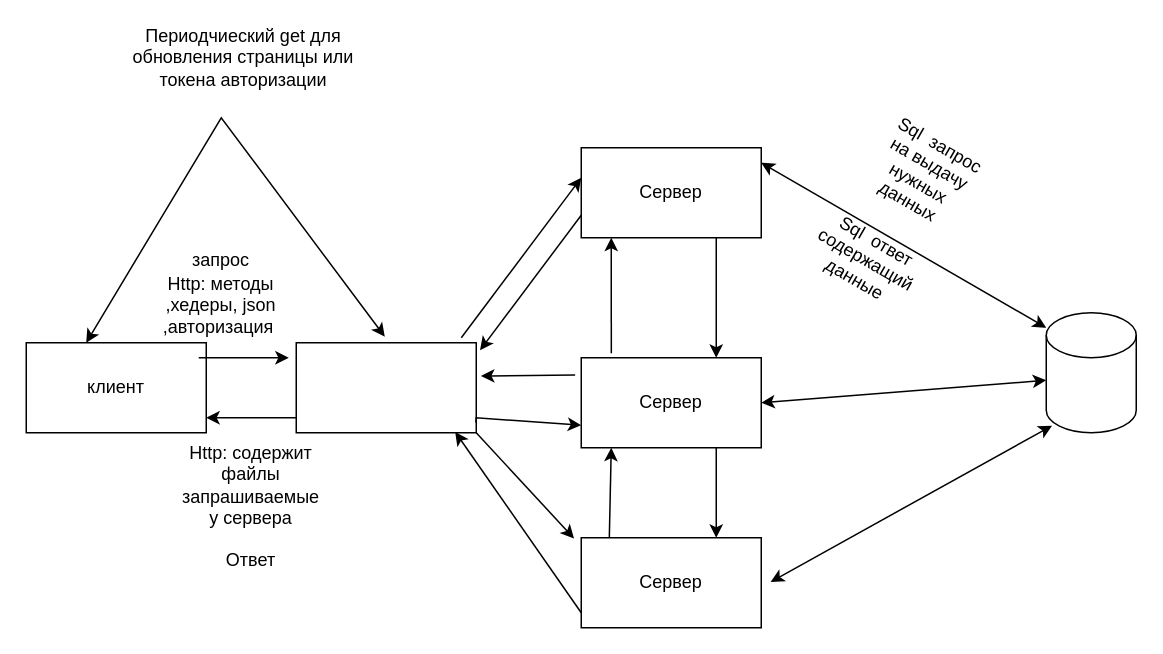
Image size: 1163x654. Some labels were removed from this diagram. The shapes that lost their labels are listed below. From the top down, each one's centre as x and y in pixels, then its label:
the point at 385,387: балансировщик
the point at 1090,372: Бд
